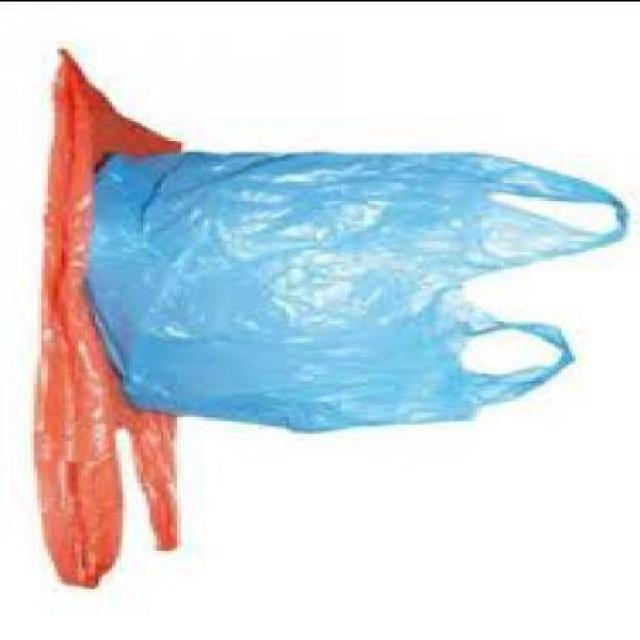PLASTIC: (95, 146, 634, 429), (41, 46, 184, 586)
